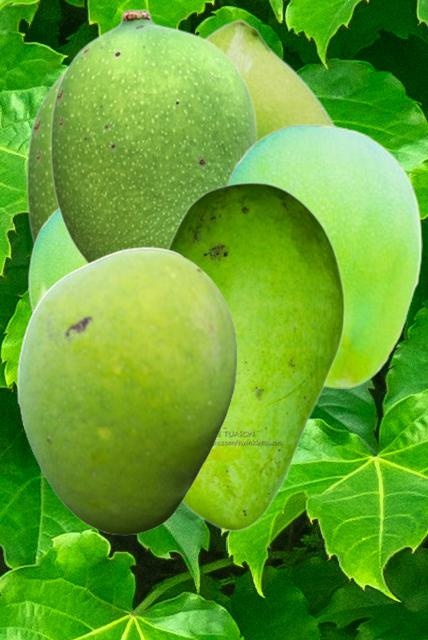green_mango: (16, 246, 236, 534), (166, 181, 345, 531), (49, 8, 256, 262), (224, 123, 421, 387), (204, 18, 337, 139), (25, 70, 64, 245), (27, 206, 85, 314)
